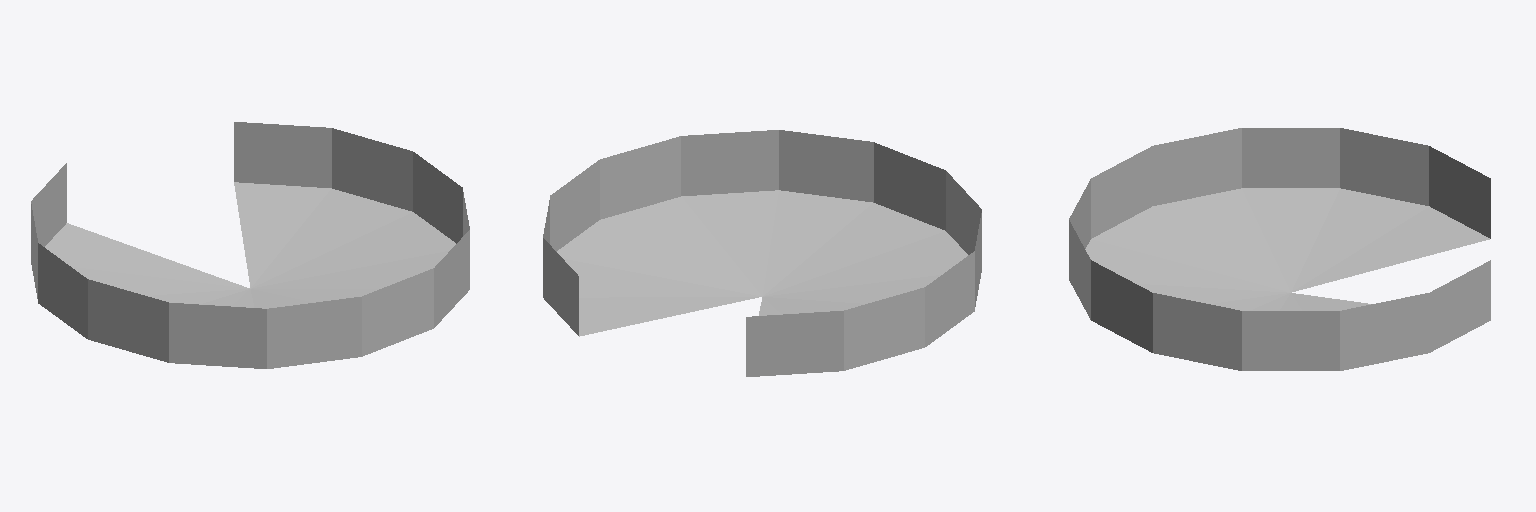
File: lilypad1.obj
The picture shows the model from 3 angles: view 1: azimuth 30°, elevation 25°; view 2: azimuth 150°, elevation 25°; view 3: azimuth 270°, elevation 25°; orthographic projection.
Parts seen in each view (by area): view 1: Cylinder_Cylinder.001; view 2: Cylinder_Cylinder.001; view 3: Cylinder_Cylinder.001.
Boxes of the visible parts, box(x1,y1,x2,y2) form: Cylinder_Cylinder.001: box(31, 122, 469, 368); Cylinder_Cylinder.001: box(543, 130, 981, 376); Cylinder_Cylinder.001: box(1069, 128, 1490, 370).
Size of the model in its own units: 1.95 by 0.3652 by 1.9.